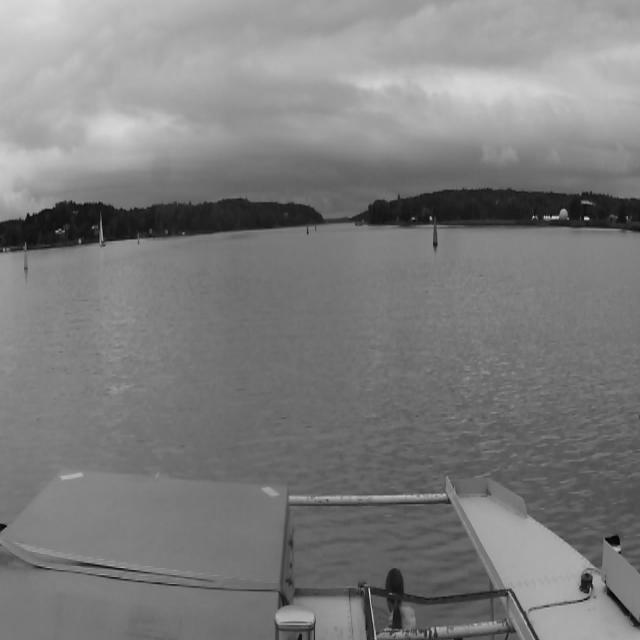buoy: (22, 243, 30, 269), (432, 218, 438, 247), (305, 220, 309, 236)
ship: (98, 212, 105, 245)
